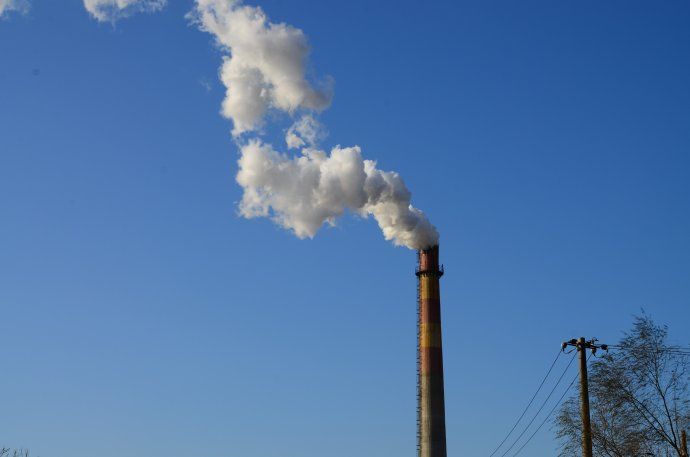dust: (244, 134, 452, 263)
